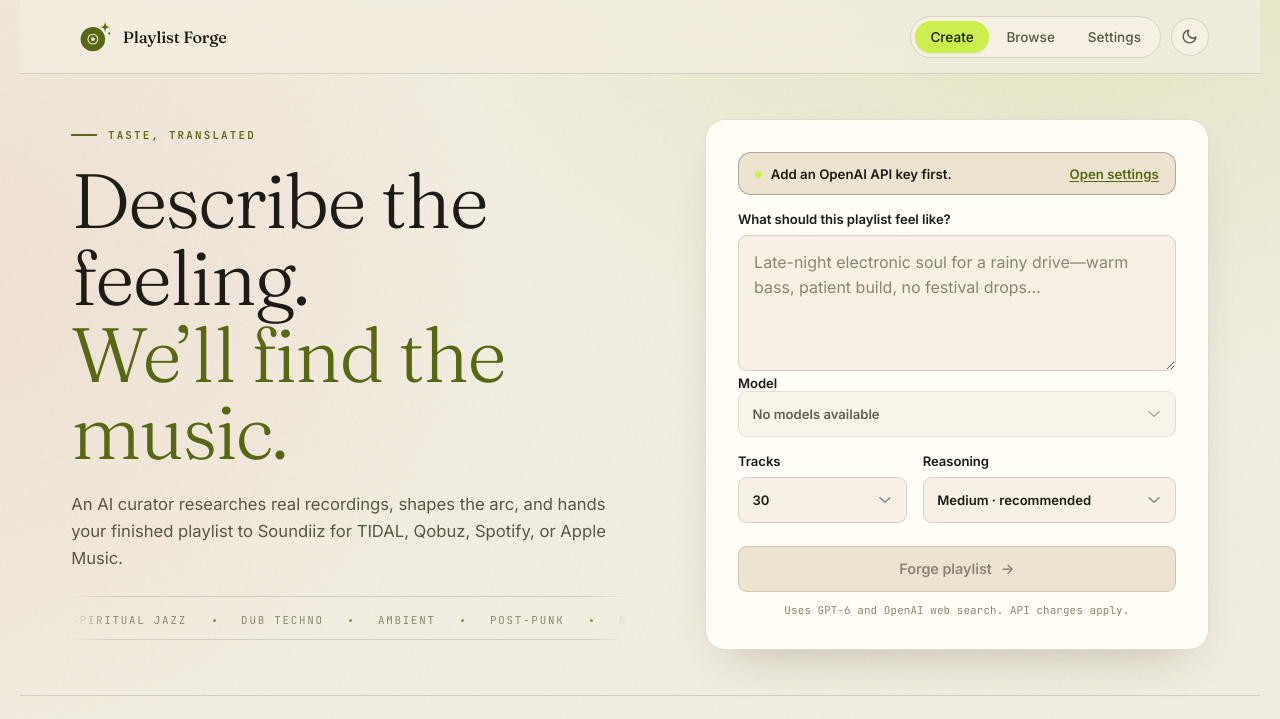
Test case: App › shows when Deezer has no matching preview
The image size is (1280, 719).
Click the button "Browse": click(1031, 36) [991, 20, 1070, 52]
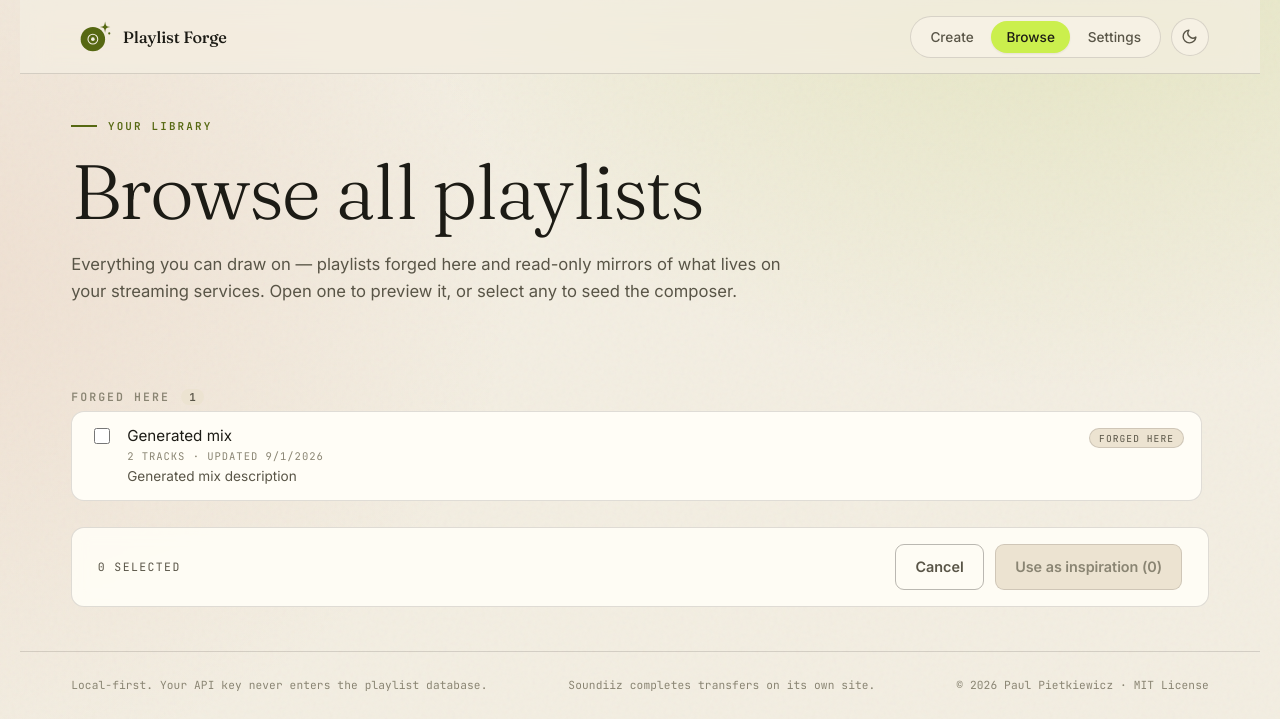
Click the button "Generated mix": click(180, 435) [127, 426, 1075, 486]
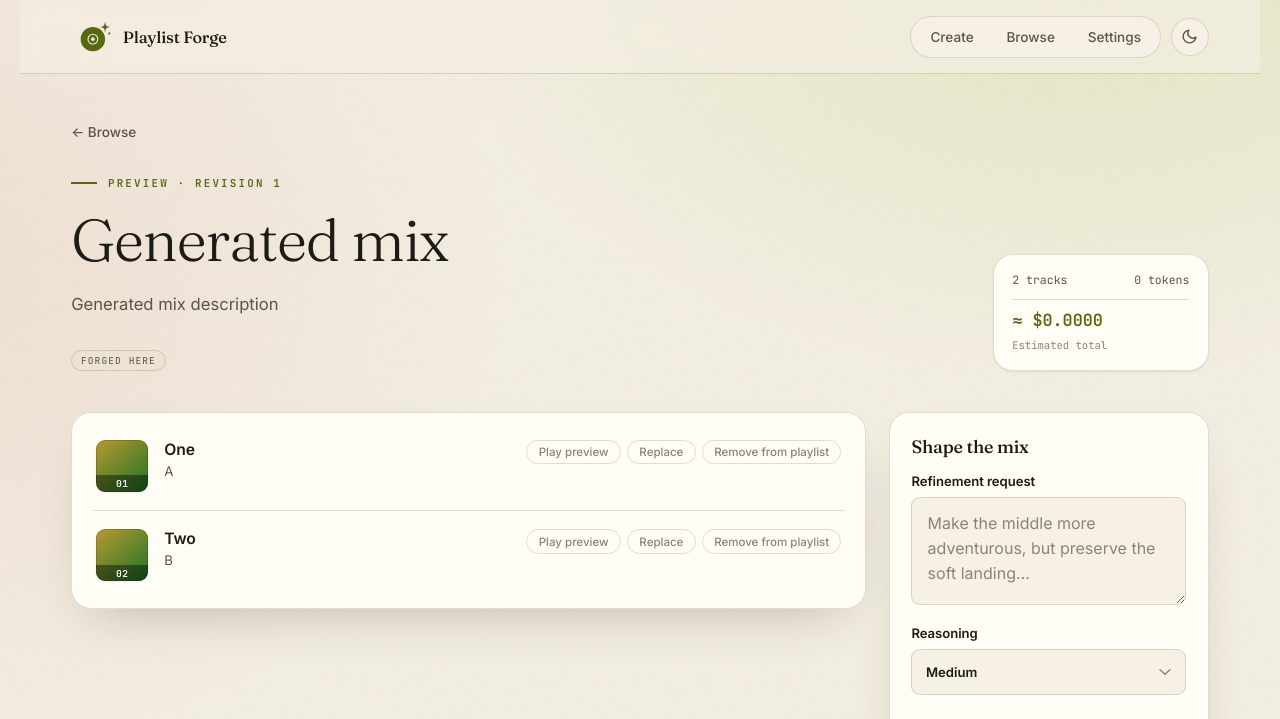
Click the button with aria-label "Play preview of One": click(574, 452) [526, 440, 621, 464]
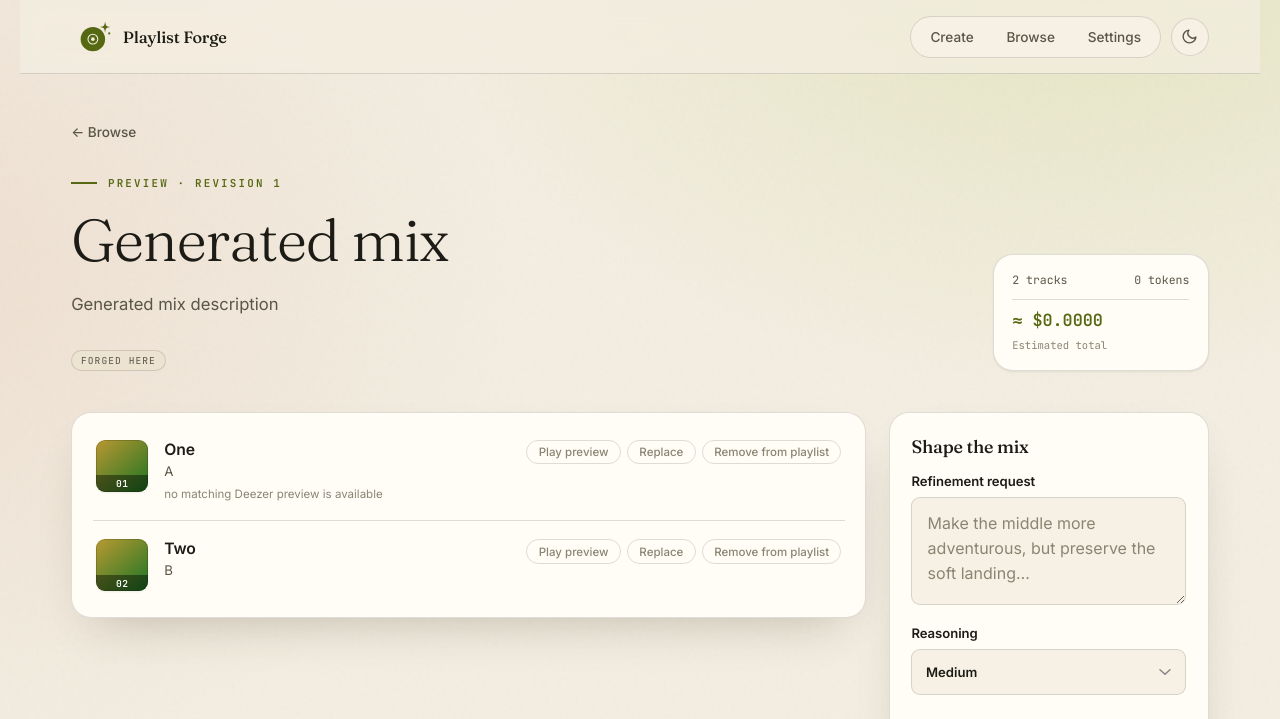
Check: the text "no matching Deezer preview is available" is shown, box [164, 487, 383, 501]
